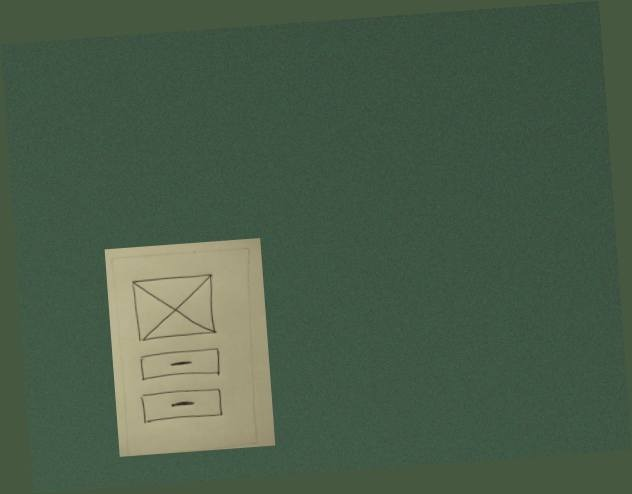button: (138, 385, 226, 427), (137, 347, 221, 383)
image: (130, 271, 220, 344)
